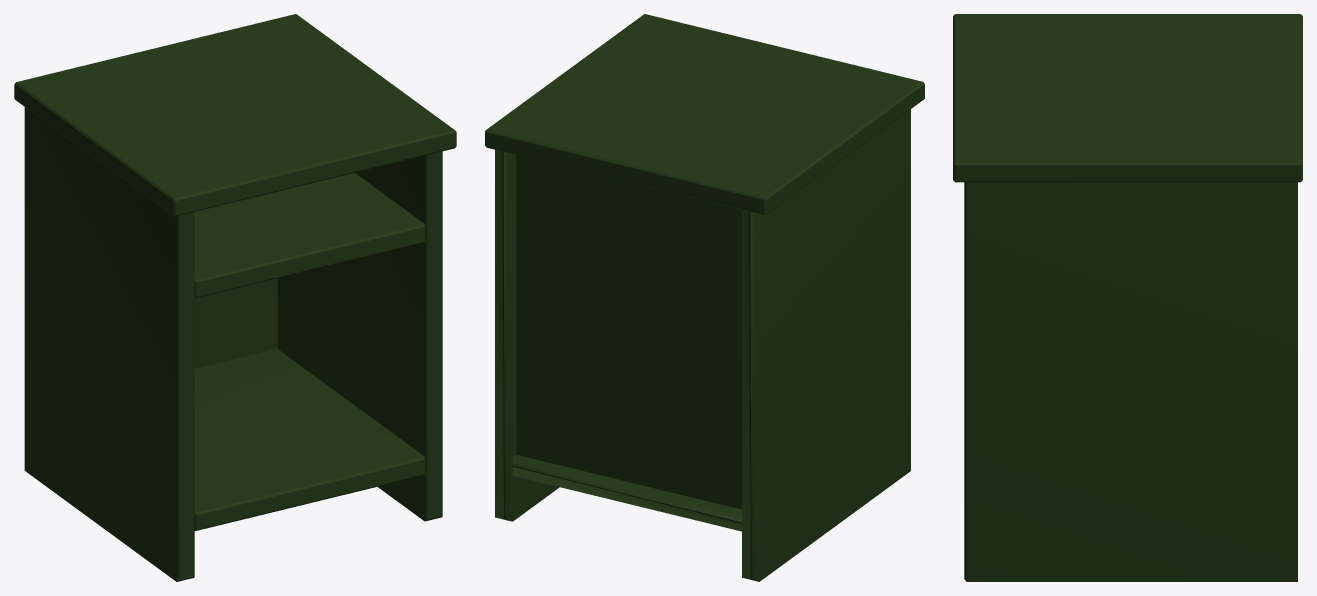
The model's file is Bedside_Table_001.glb.
3 renders of one model, left to right at view 1: azimuth 30°, elevation 25°; view 2: azimuth 150°, elevation 25°; view 3: azimuth 270°, elevation 25°, orthographic. The views are drawn at different scales.
Visible parts, largest first — view 1: Bedside Table.001; view 2: Bedside Table.001; view 3: Bedside Table.001.
Part boxes in pixels (x1,y1,x2,y2): Bedside Table.001: [14, 14, 456, 581]; Bedside Table.001: [485, 14, 924, 581]; Bedside Table.001: [953, 14, 1302, 581].
Size of the model in its own units: 0.32 by 0.42 by 0.3145.
